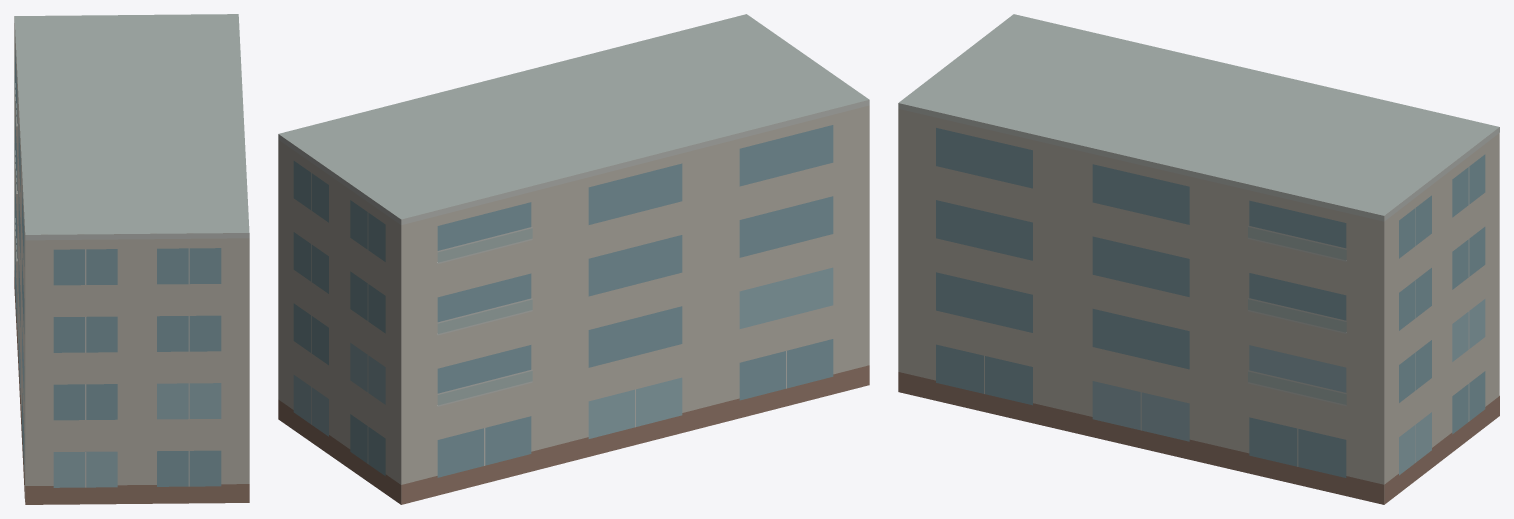
Rendered from residential-0ce6e59d-182c-43d5-924d-ce397a4d1c90.glb.
3 renders of one model, left to right at view 1: azimuth 30°, elevation 25°; view 2: azimuth 150°, elevation 25°; view 3: azimuth 270°, elevation 25°, orthographic. The views are drawn at different scales.
Visible parts, largest first — view 1: residential-0ce6e59d-182c-43d5-924d-ce397a4d1c90.tmp; view 2: residential-0ce6e59d-182c-43d5-924d-ce397a4d1c90.tmp; view 3: residential-0ce6e59d-182c-43d5-924d-ce397a4d1c90.tmp.
Boxes of the visible parts, box(x1,y1,x2,y2) form: residential-0ce6e59d-182c-43d5-924d-ce397a4d1c90.tmp: box(14, 14, 249, 504); residential-0ce6e59d-182c-43d5-924d-ce397a4d1c90.tmp: box(278, 14, 869, 504); residential-0ce6e59d-182c-43d5-924d-ce397a4d1c90.tmp: box(898, 14, 1499, 504).
Bounding box in the file's own units: 18.29 × 12.2 × 23.02.
